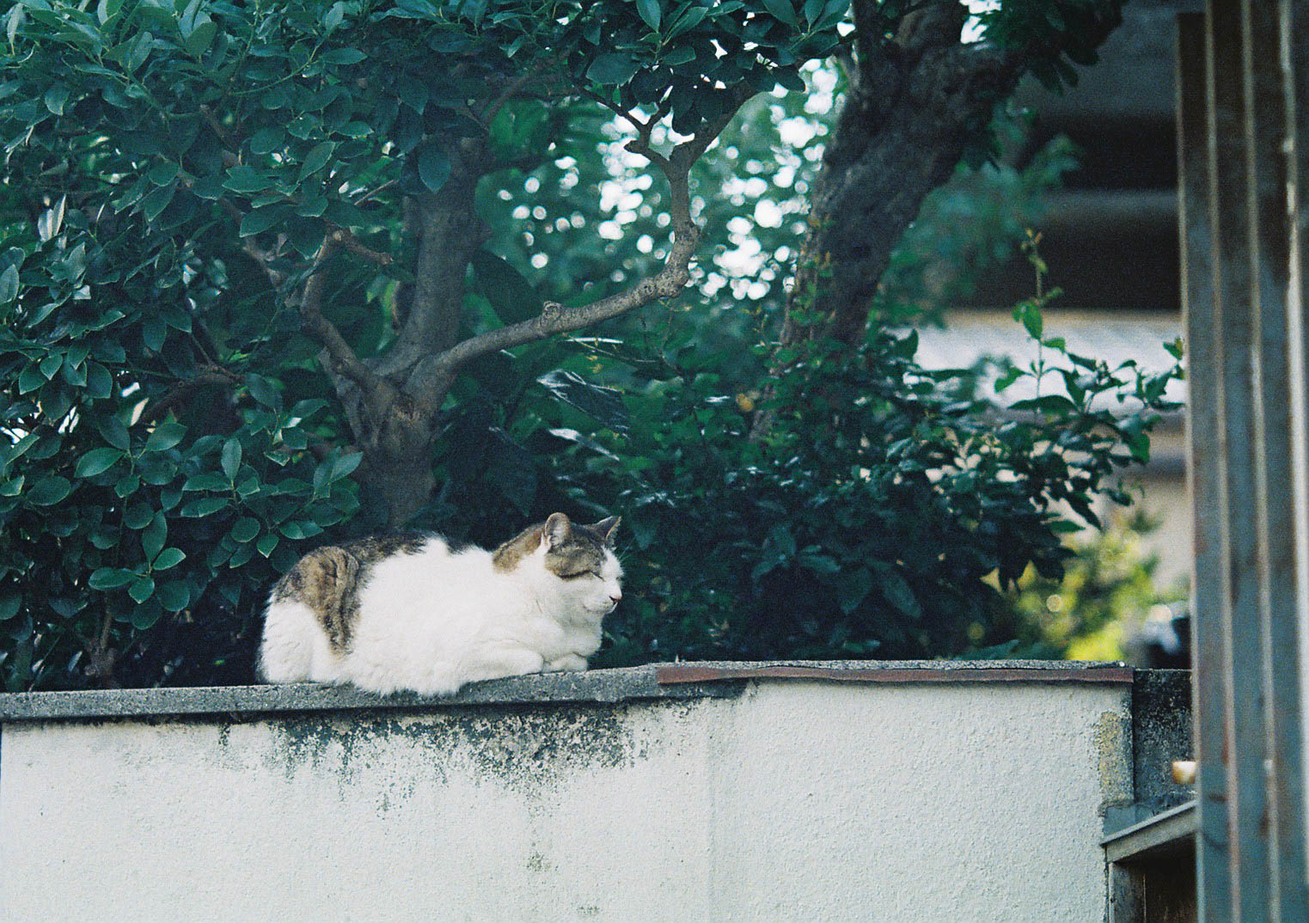cat: (256, 518, 632, 696)
